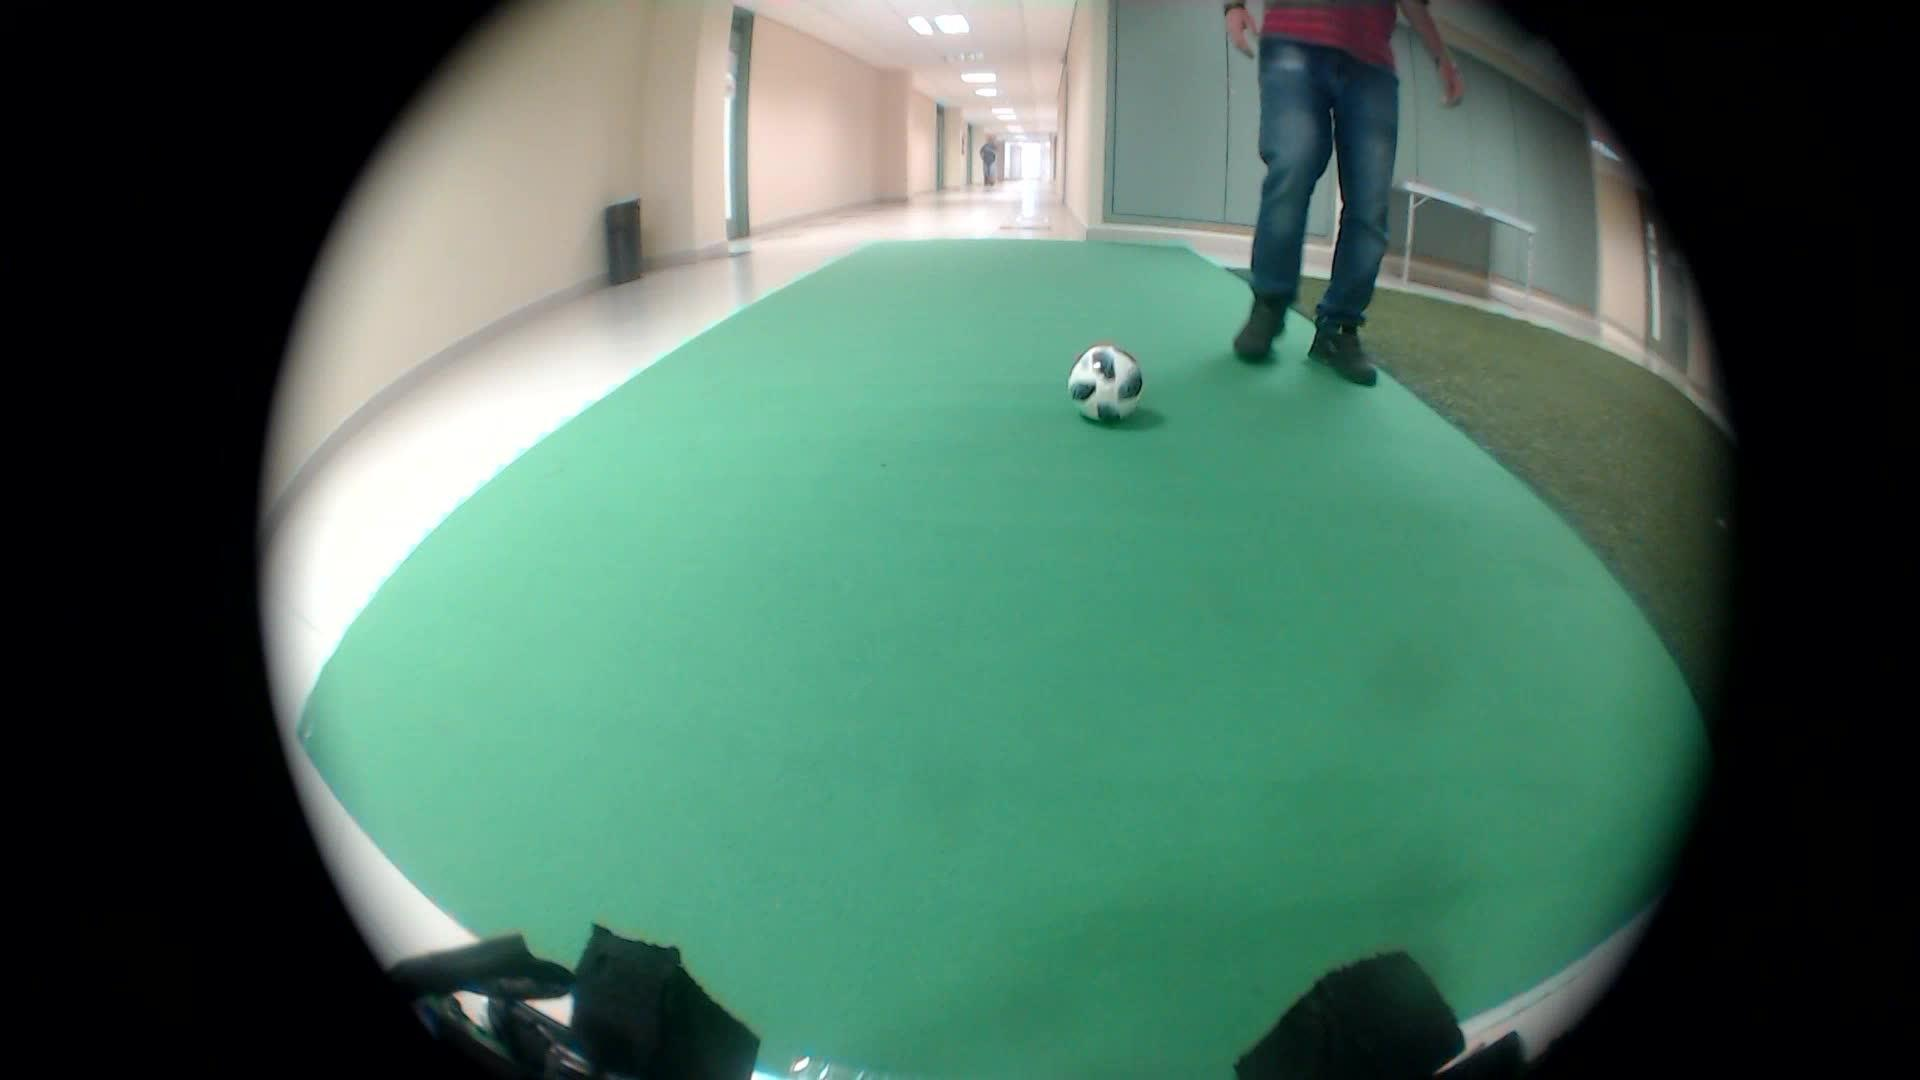ball: (1054, 327, 1149, 436)
